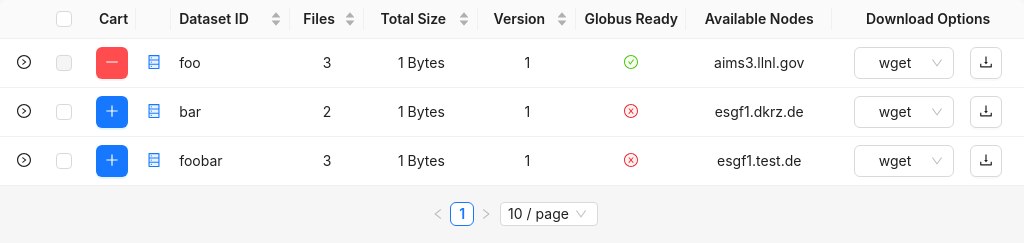
Test: test main table UI › displays an error when unable to access download via wget
Expected: the row with test id "cart-items-row-0" is shown, [0,39,1023,88]
Expected: the 1st picture named "download" is shown, [979,55,993,69]
What coordinates should you click on to do the following:
click the 2nd button named "download"
I would click on:
 (986, 63)
Its box is [970,47,1002,79].
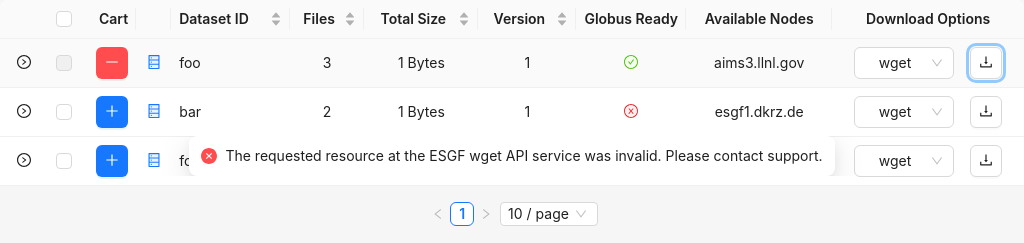
Now the text "The requested resource at the ESGF wget API service was invalid. Please contact support." is shown, box [225,147,823,164]
